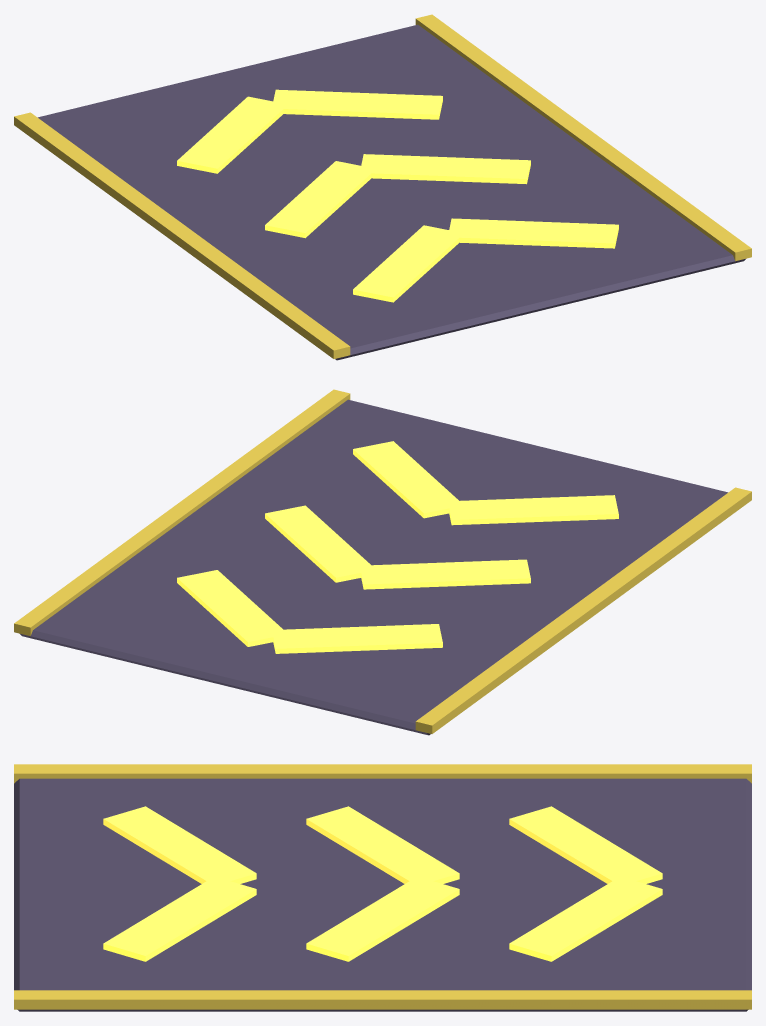
The model's file is boost-pad.glb.
3 renders of one model, top to bottom at view 1: azimuth 30°, elevation 25°; view 2: azimuth 150°, elevation 25°; view 3: azimuth 270°, elevation 25°, orthographic. The views are drawn at different scales.
Parts seen in each view (by area): view 1: boost-pad; view 2: boost-pad; view 3: boost-pad.
Boxes of the visible parts, x1=… form: boost-pad: x1=14, y1=14, x2=751, y2=360; boost-pad: x1=14, y1=389, x2=751, y2=735; boost-pad: x1=14, y1=764, x2=751, y2=1011.
Bounding box in the file's own units: 3.02 × 0.095 × 4.
